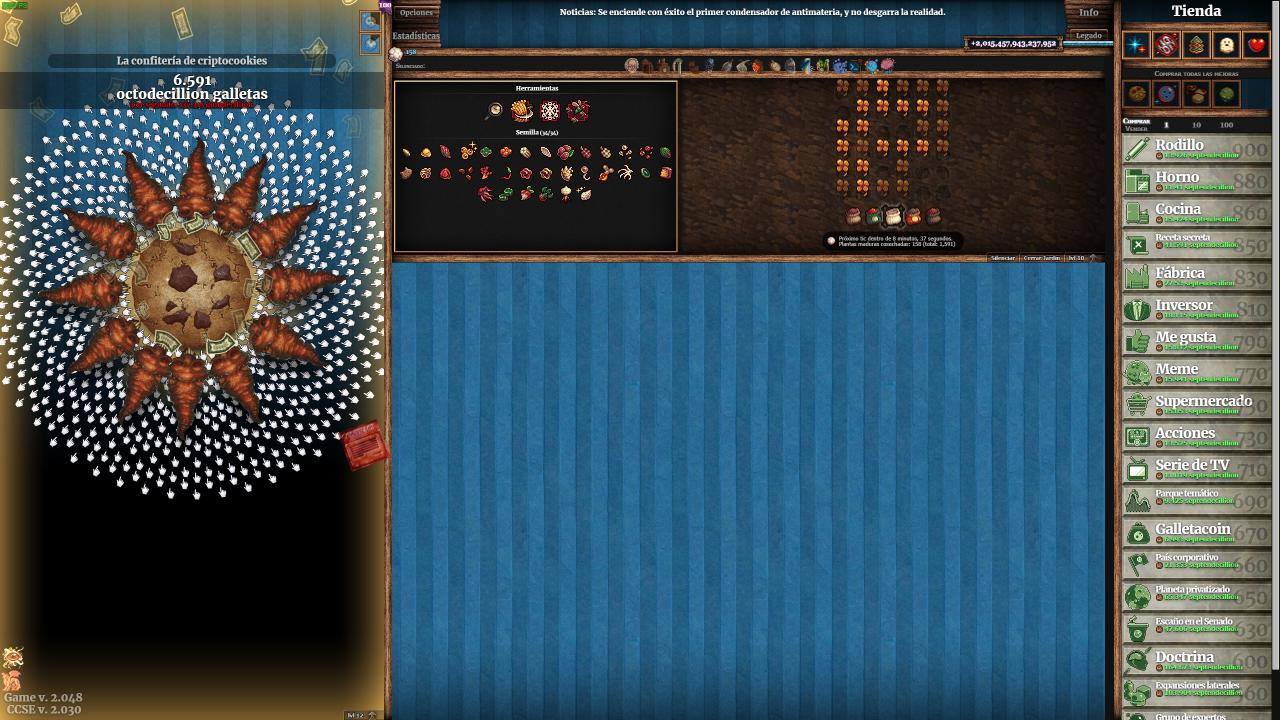RedCartridge: (337, 418, 391, 473)
